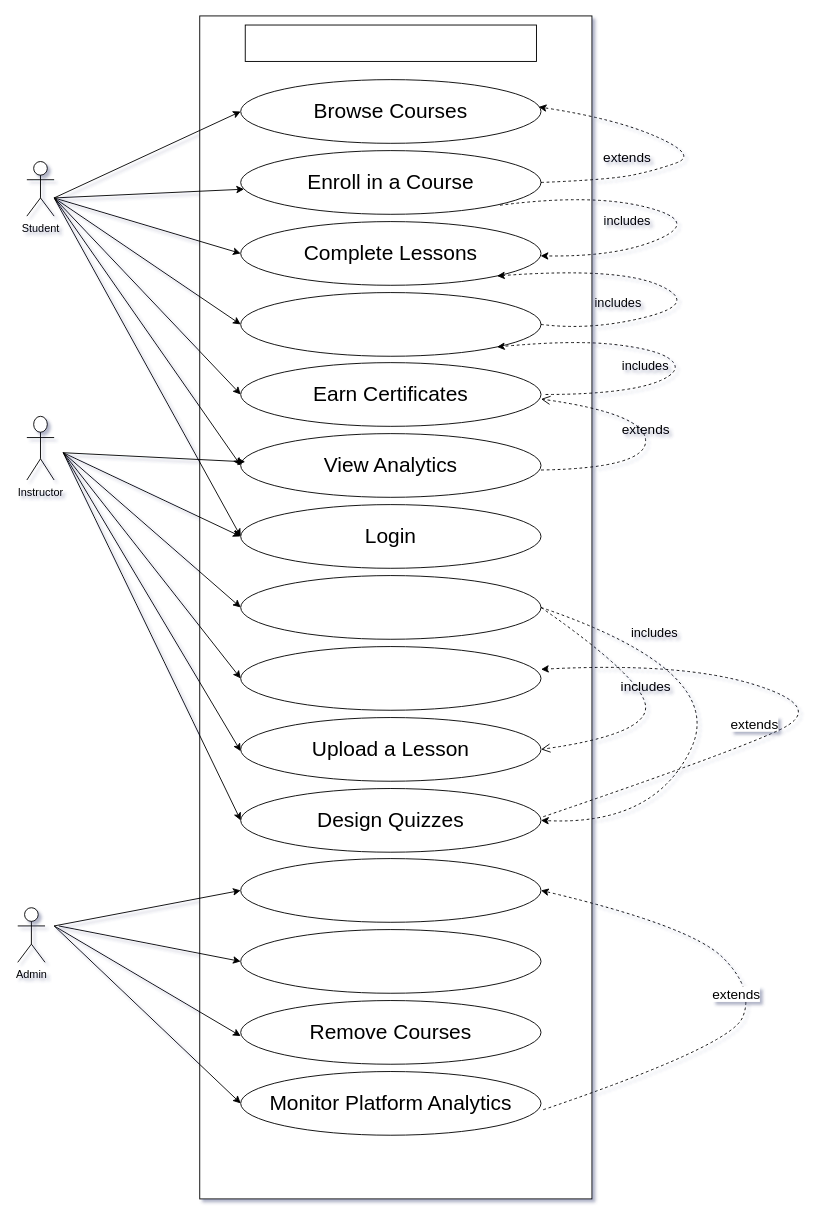
This 820x1220 diagram has some shape labels left out. Each missing label, with the centre of its shape:
"Approve Courses" belongs at point (390, 961).
"Create a Course" belongs at point (390, 607).
"Manage a Course" belongs at point (390, 678).
"Manage Users" belongs at point (390, 890).
"SkillForge Platform" belongs at point (390, 42).
"Solve Quizzes" belongs at point (390, 324).
